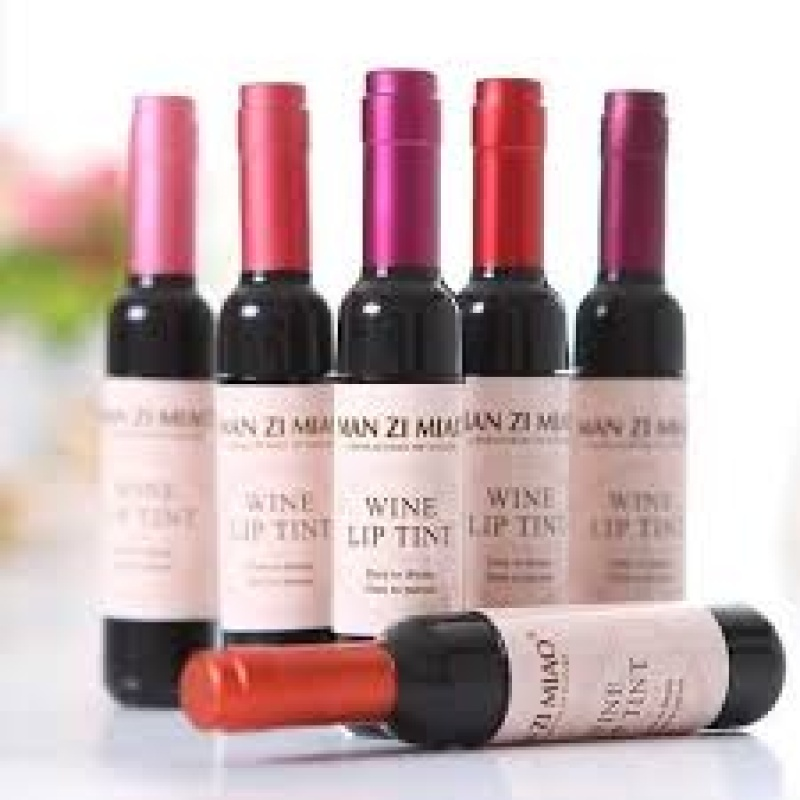wine: (333, 74, 475, 628), (187, 607, 794, 735), (211, 86, 350, 636), (92, 89, 217, 681), (575, 92, 681, 643), (462, 82, 570, 608)
